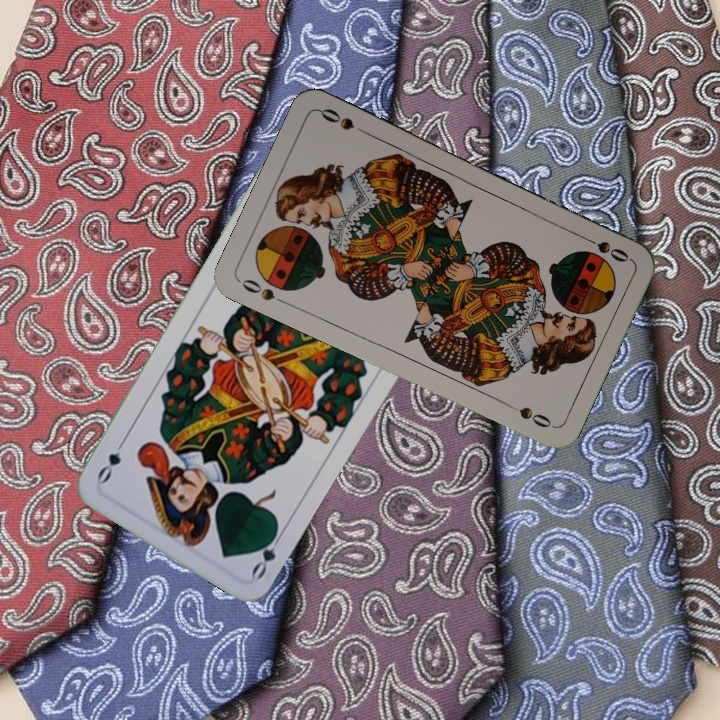GO: (247, 524, 287, 582)
SO: (577, 231, 633, 265), (237, 275, 292, 309)
